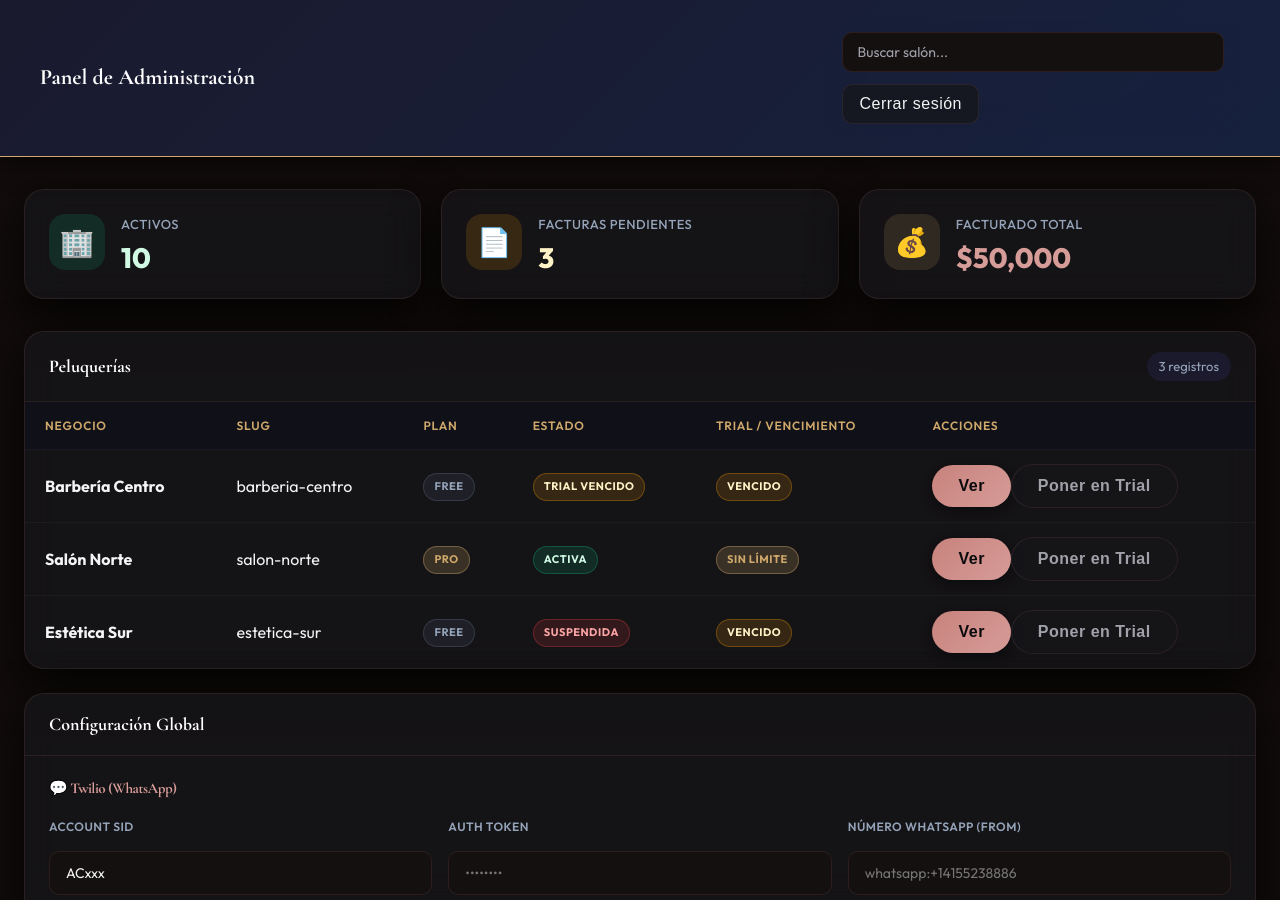
Test: AdminDashboard › filters tenants by search
Expected: the text "Barbería Centro" is shown, [45, 476, 164, 496]
Type "Norte" into the field with placeholder "Buscar salón..." at (1033, 52), box [842, 32, 1224, 72]
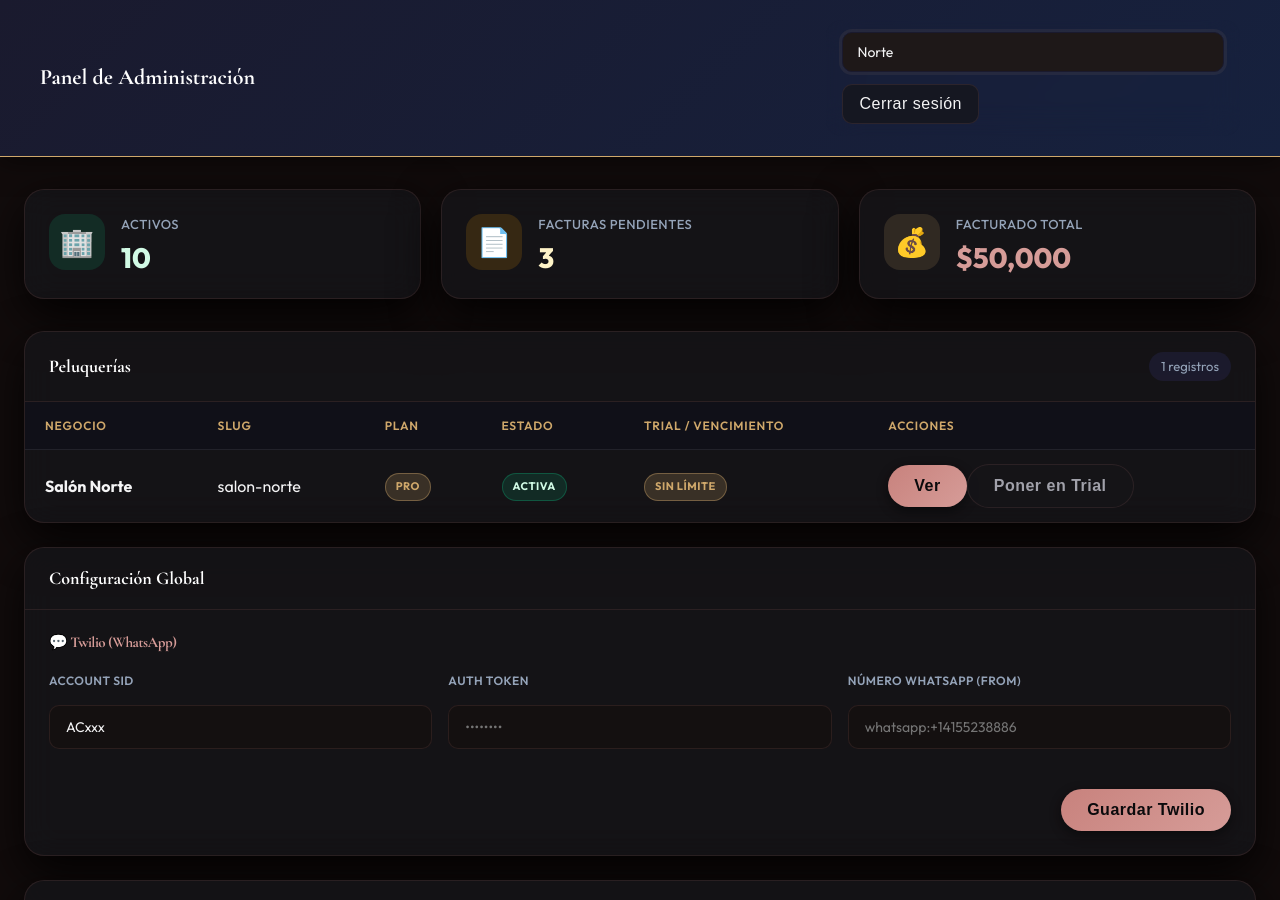
Expected: the text "Salón Norte" is shown, [45, 476, 132, 496]
Result: the text "Barbería Centro" is gone
